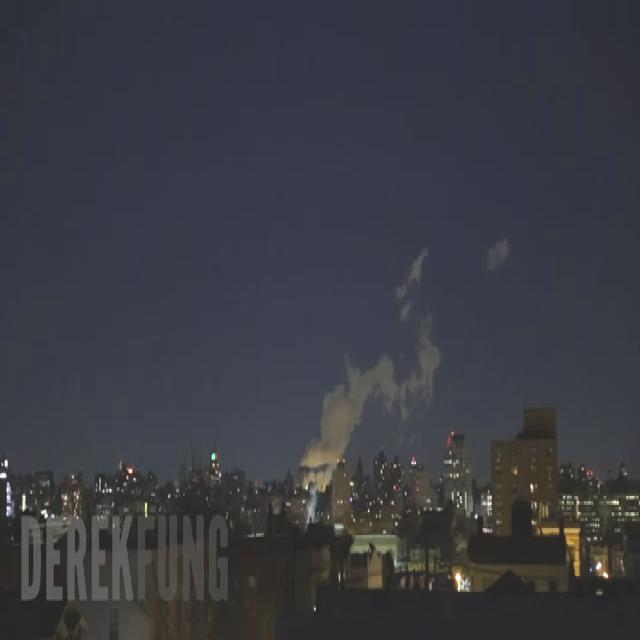smoke: (299, 327, 441, 492)
